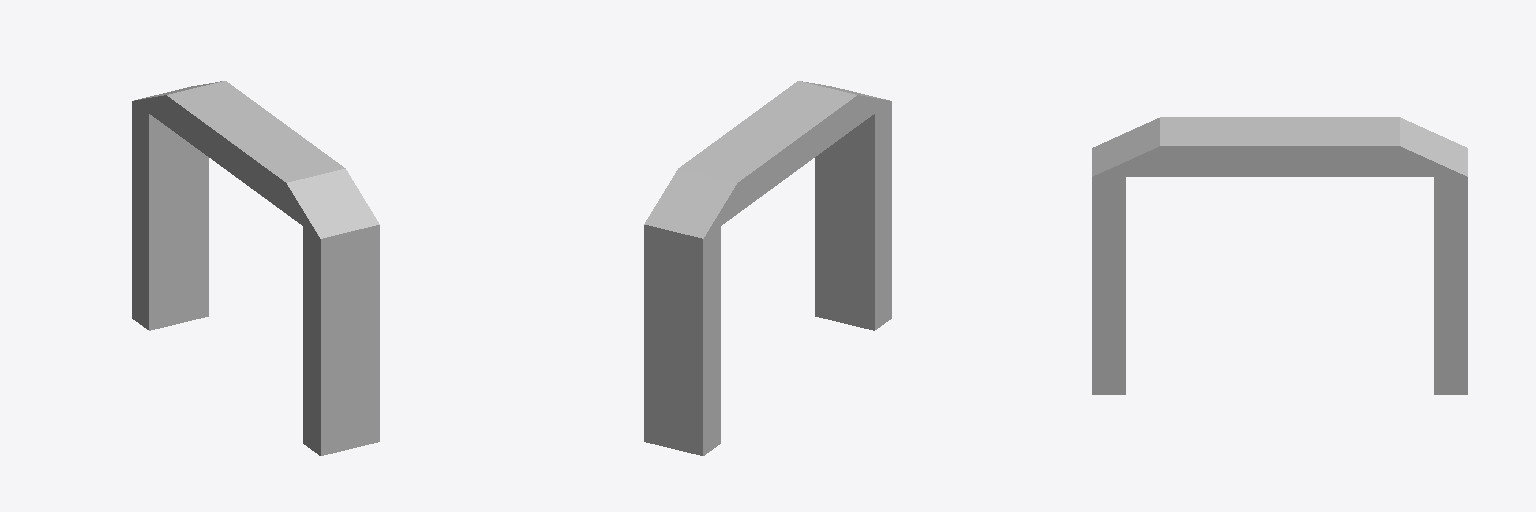
Rendered from Estructura.obj.
3 views of the same model, side by side, from view 1: azimuth 30°, elevation 25°; view 2: azimuth 150°, elevation 25°; view 3: azimuth 270°, elevation 25° (orthographic).
Visible parts, largest first — view 1: Estructura; view 2: Estructura; view 3: Estructura.
Boxes of the visible parts, x1=… form: Estructura: x1=132, y1=81, x2=379, y2=455; Estructura: x1=644, y1=81, x2=891, y2=455; Estructura: x1=1092, y1=117, x2=1467, y2=394.
Bounding box in the file's own units: 2 × 8 × 11.